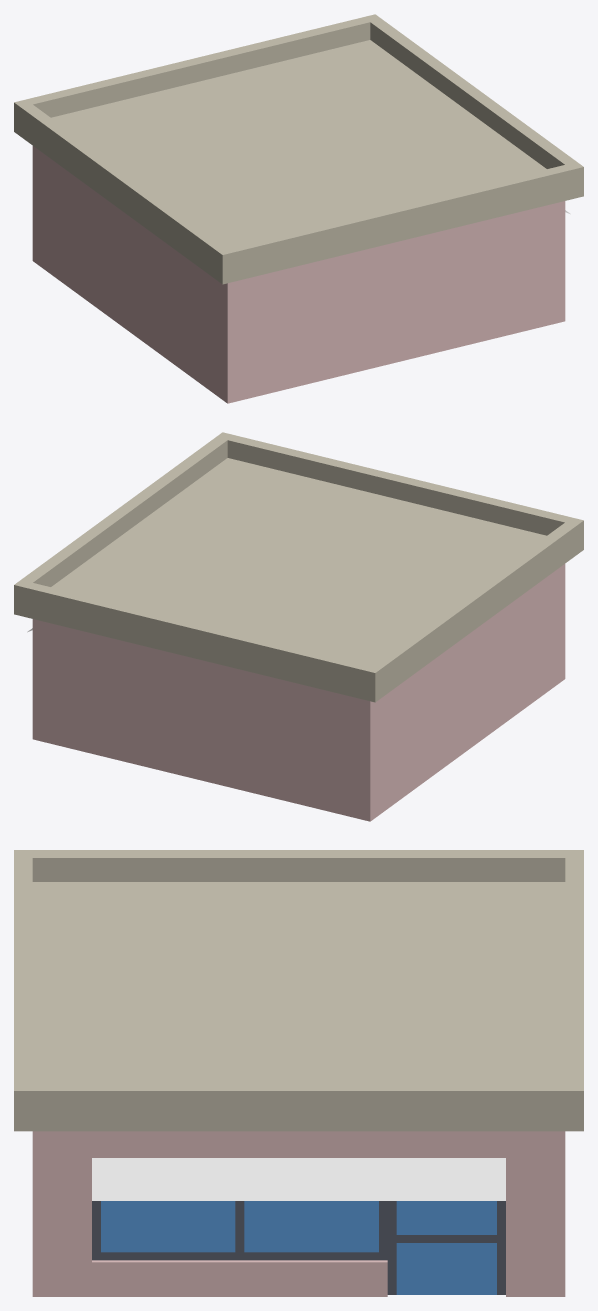
Rendered from cafe_p1.fbx.
3 views of the same model, one above another, from view 1: azimuth 30°, elevation 25°; view 2: azimuth 150°, elevation 25°; view 3: azimuth 270°, elevation 25° (orthographic). The views are drawn at different scales.
Visible parts, largest first — view 1: Cafe3.003; view 2: Cafe3.003; view 3: Cafe3.003.
Part boxes in pixels (<box>): Cafe3.003: <box>14,14,583,403</box>; Cafe3.003: <box>14,432,583,821</box>; Cafe3.003: <box>14,850,583,1296</box>.
Size of the model in its own units: 6712 by 2660 by 6424.
